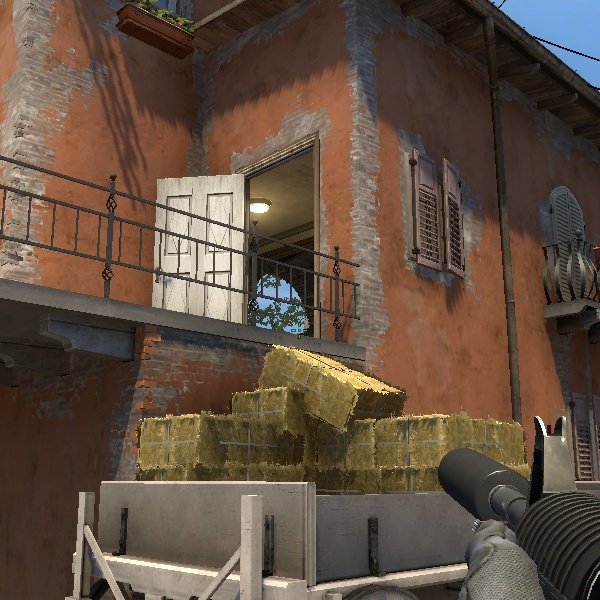t_head: (126, 319, 175, 371)
